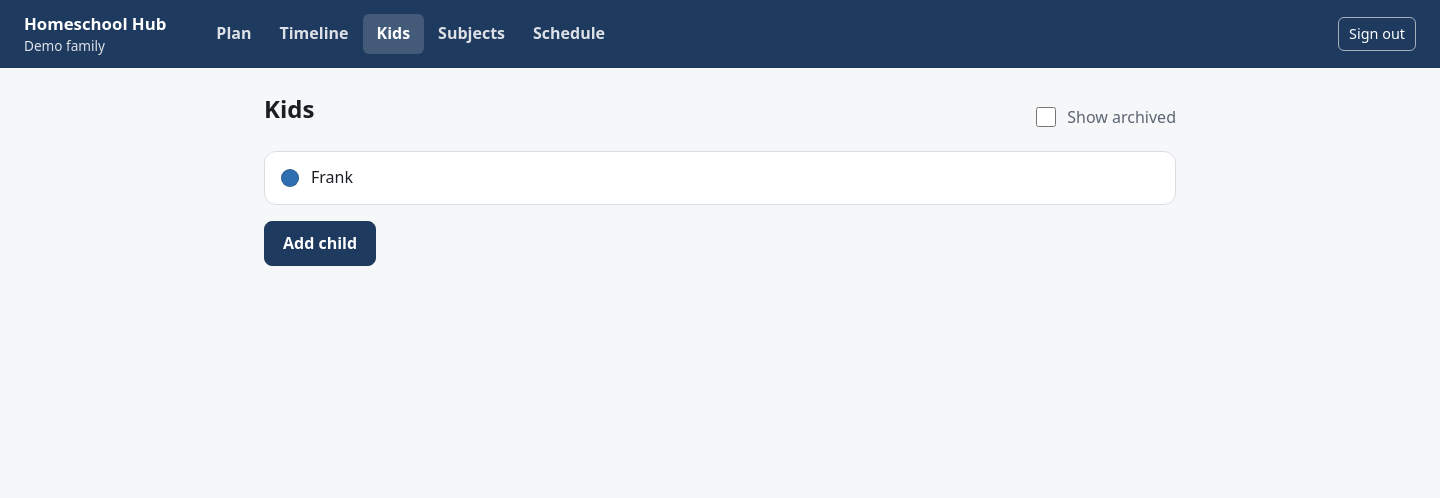
Add child › success appends the new child and closes the form
Click the button "Add child": (320, 243) top-left (264, 221), bottom-right (376, 266)
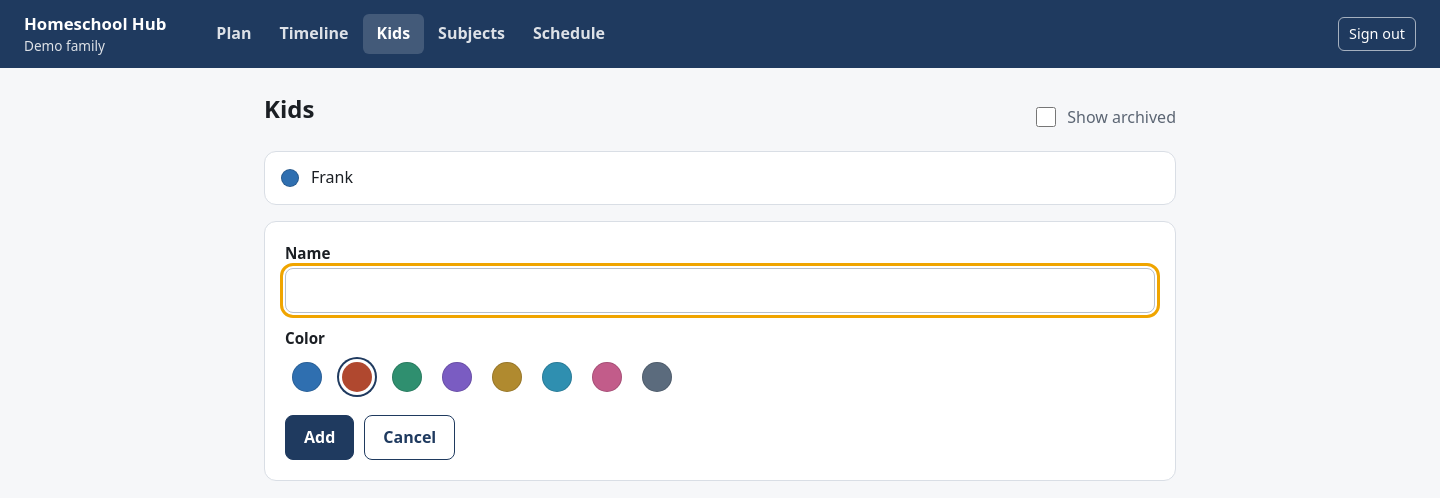
In the field labelled "Name": (720, 290) top-left (285, 268), bottom-right (1155, 313), type "  Ada  "
Then press Enter
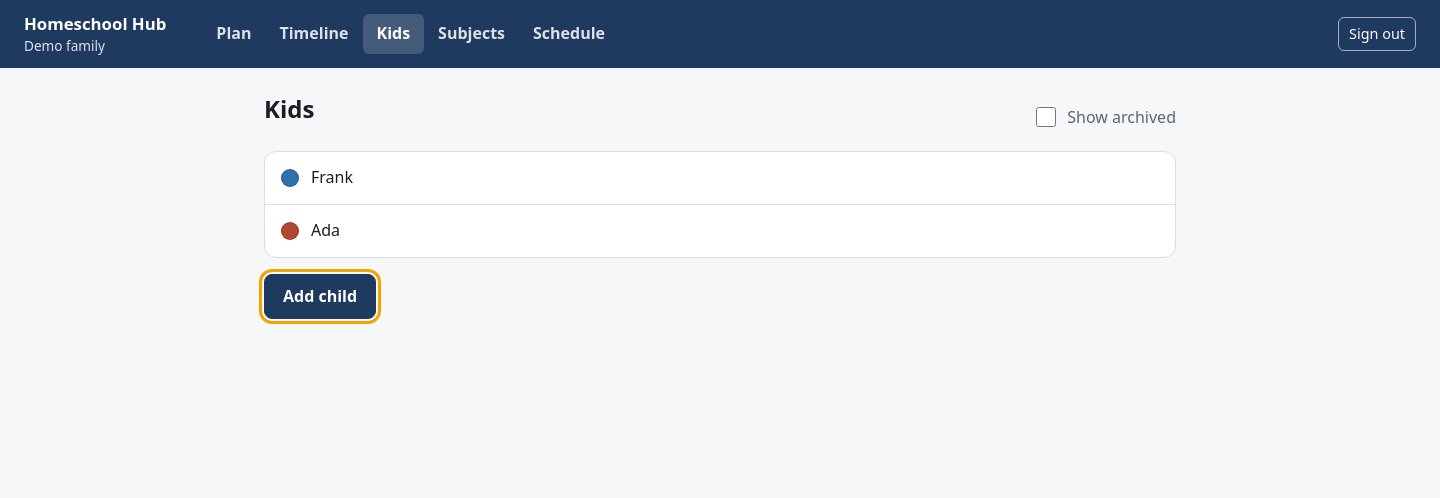
Expected: the list items read "Frank", "Ada", in this order, top-left (265, 152), bottom-right (1175, 204); top-left (265, 204), bottom-right (1175, 257)
